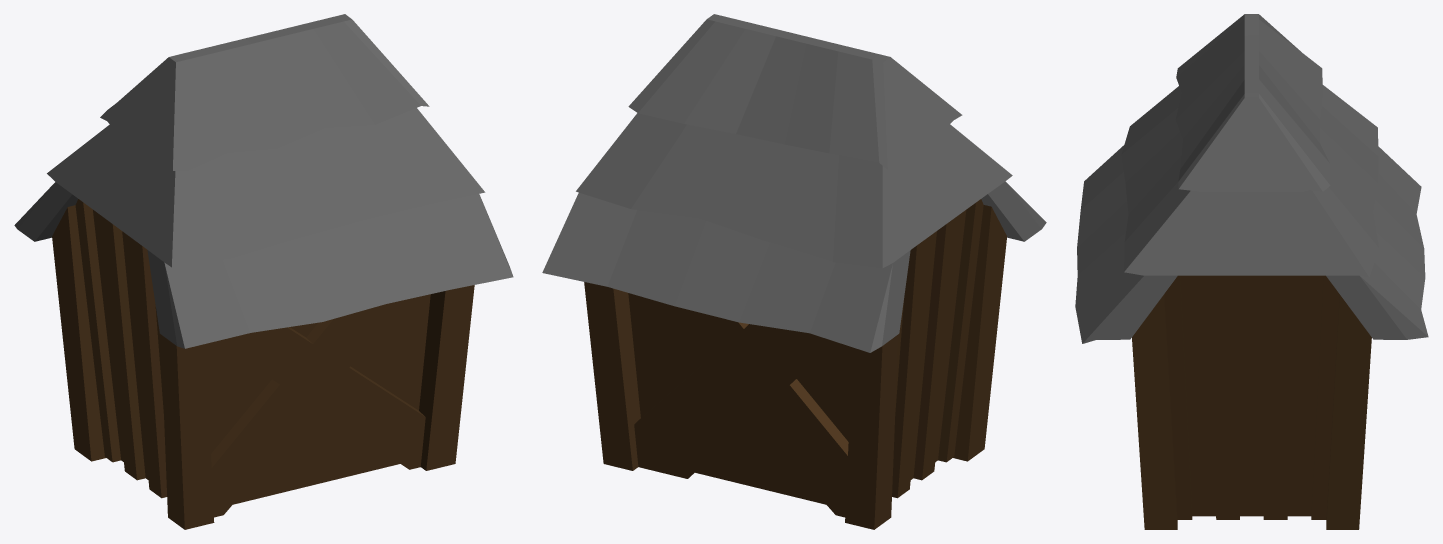
Rendered from Lookout2.fbx.
3 views of the same model, side by side, from view 1: azimuth 30°, elevation 25°; view 2: azimuth 150°, elevation 25°; view 3: azimuth 270°, elevation 25° (orthographic). The views are drawn at different scales.
Parts seen in each view (by area): view 1: Cube.118, Cube.033, Cube.121; view 2: Cube.118, Cube.033, Cube.121; view 3: Cube.118, Cube.033, Cube.121.
Part boxes in pixels (bbox=[...]): Cube.118: bbox=[14, 14, 513, 348]; Cube.033: bbox=[75, 199, 430, 517]; Cube.121: bbox=[52, 205, 474, 529]; Cube.118: bbox=[542, 14, 1046, 352]; Cube.033: bbox=[628, 199, 983, 517]; Cube.121: bbox=[584, 205, 1006, 529]; Cube.118: bbox=[1075, 14, 1428, 343]; Cube.033: bbox=[1164, 275, 1339, 519]; Cube.121: bbox=[1132, 294, 1371, 529].
Bounding box in the file's own units: 780 × 942 × 739.
